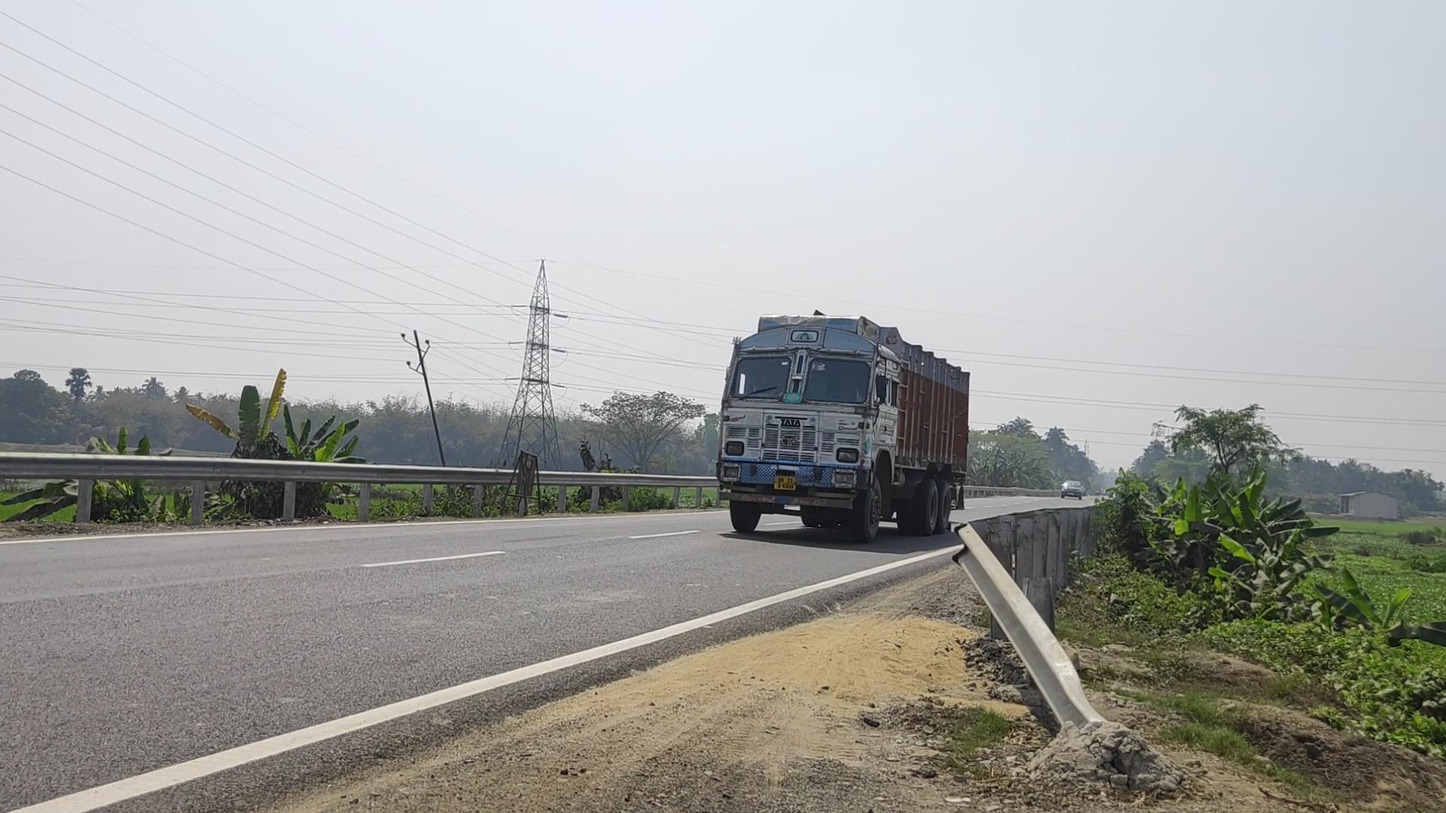car: (1060, 480, 1084, 501)
truck: (715, 315, 971, 545)
